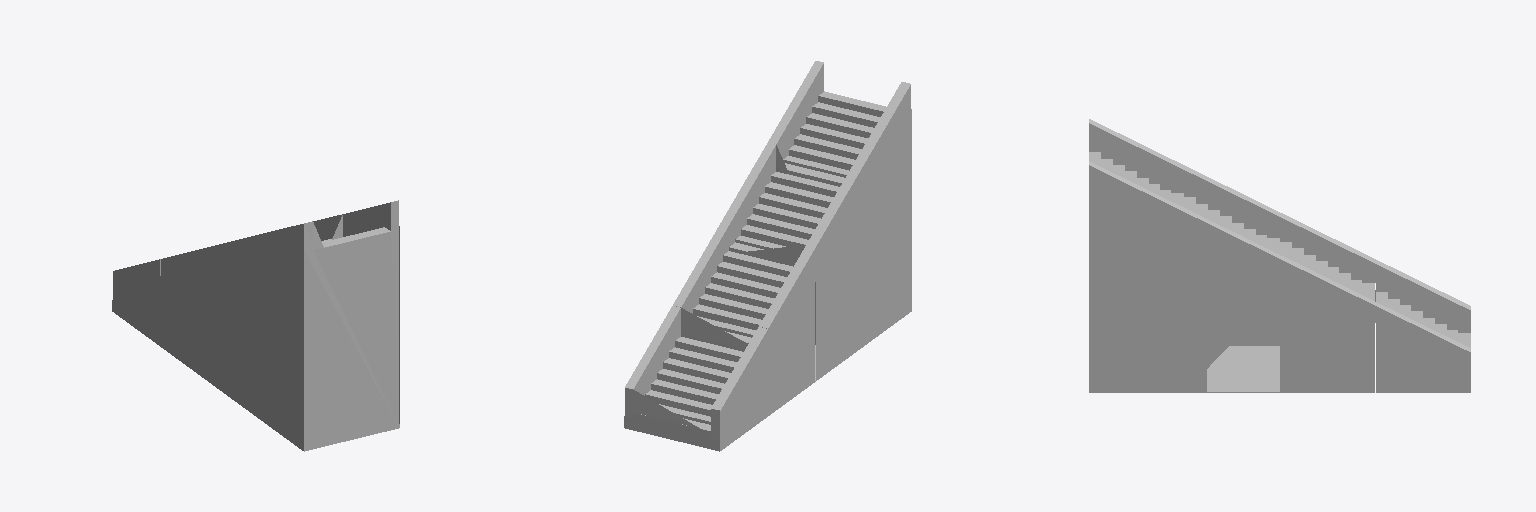
The model's file is OBJ_engine_room_stairs.obj.
3 views of the same model, side by side, from view 1: azimuth 30°, elevation 25°; view 2: azimuth 150°, elevation 25°; view 3: azimuth 270°, elevation 25° (orthographic).
Visible parts, largest first — view 1: default; view 2: default; view 3: default.
Part boxes in pixels (x1,y1,x2,y2): default: (112, 200, 399, 451); default: (624, 61, 911, 451); default: (1089, 119, 1470, 392).
Size of the model in its own units: 25.51 by 58.06 by 88.29.